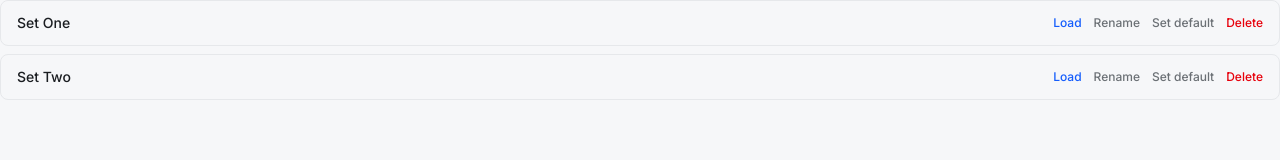
Test: SavedFiltersList › shows a per-row error without affecting other rows
Click the button "Set default" in the row of "Set One": (1183, 23) top-left (1152, 15), bottom-right (1214, 31)
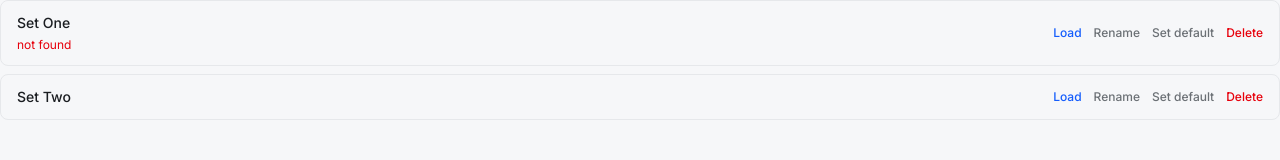
Check: the text "not found" is shown, box top-left (17, 37), bottom-right (71, 52)
Click the button "Set default" in the row of "Set Two": (1183, 97) top-left (1152, 89), bottom-right (1214, 105)
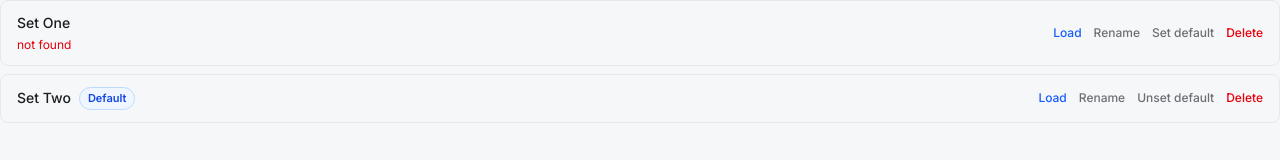
Check: the text "not found" is shown, box top-left (17, 37), bottom-right (71, 52)
Check: the text "Default" is shown, box top-left (79, 87), bottom-right (135, 110)
